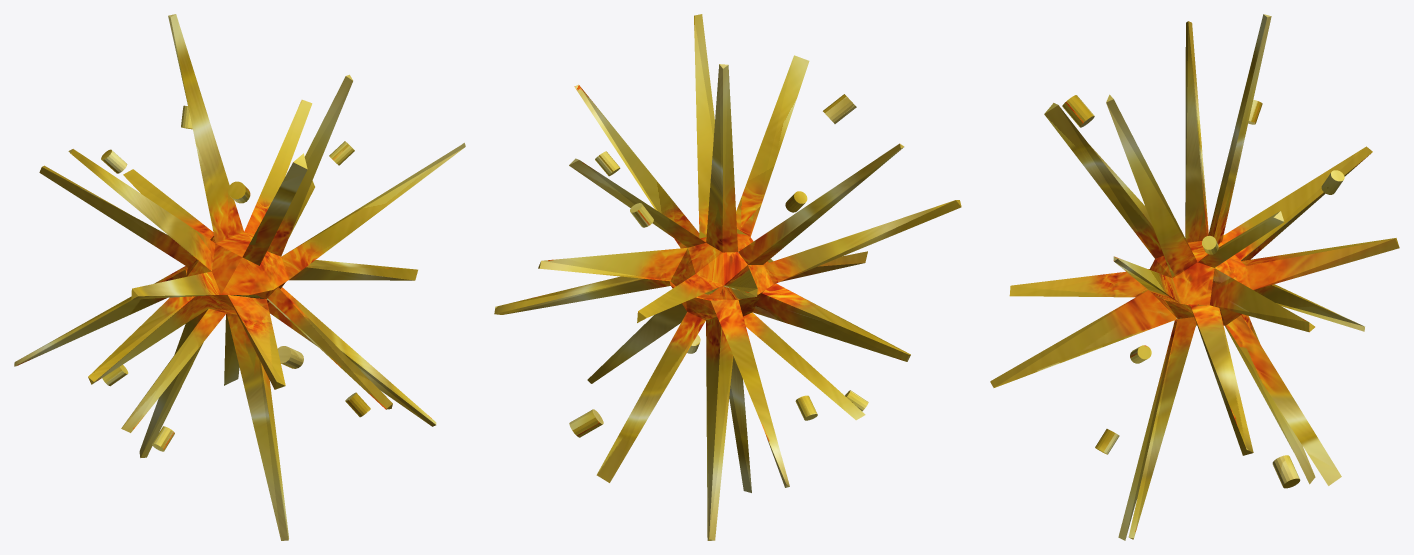
The model's file is splasheff.obj.
The picture shows the model from 3 angles, left to right: view 1: azimuth 30°, elevation 25°; view 2: azimuth 150°, elevation 25°; view 3: azimuth 270°, elevation 25°; orthographic projection. The views are drawn at different scales.
Parts seen in each view (by area): view 1: Icosphere.007, Icosphere.001, Icosphere.012, Icosphere.006; view 2: Icosphere.007, Icosphere.001, Icosphere.012, Icosphere.006, Icosphere.002; view 3: Icosphere.007, Icosphere.001, Icosphere.012, Icosphere.006, Icosphere.002, Icosphere.008.
Part boxes in pixels (box(x1,y1,x2,y2)): Icosphere.007: box(39, 14, 465, 299); Icosphere.001: box(14, 260, 436, 540); Icosphere.012: box(186, 232, 288, 295); Icosphere.006: box(185, 270, 285, 314); Icosphere.007: box(538, 14, 961, 322); Icosphere.001: box(494, 251, 910, 540); Icosphere.012: box(670, 234, 773, 299); Icosphere.006: box(670, 281, 763, 320); Icosphere.002: box(569, 409, 603, 437); Icosphere.007: box(1044, 14, 1399, 332); Icosphere.001: box(990, 269, 1364, 540); Icosphere.012: box(1149, 241, 1250, 305); Icosphere.006: box(1150, 290, 1254, 325); Icosphere.002: box(1272, 455, 1300, 488); Icosphere.008: box(1062, 95, 1094, 127).
Bounding box in the file's own units: 1.19 × 1.47 × 1.09.
1 material, 1 textured.
